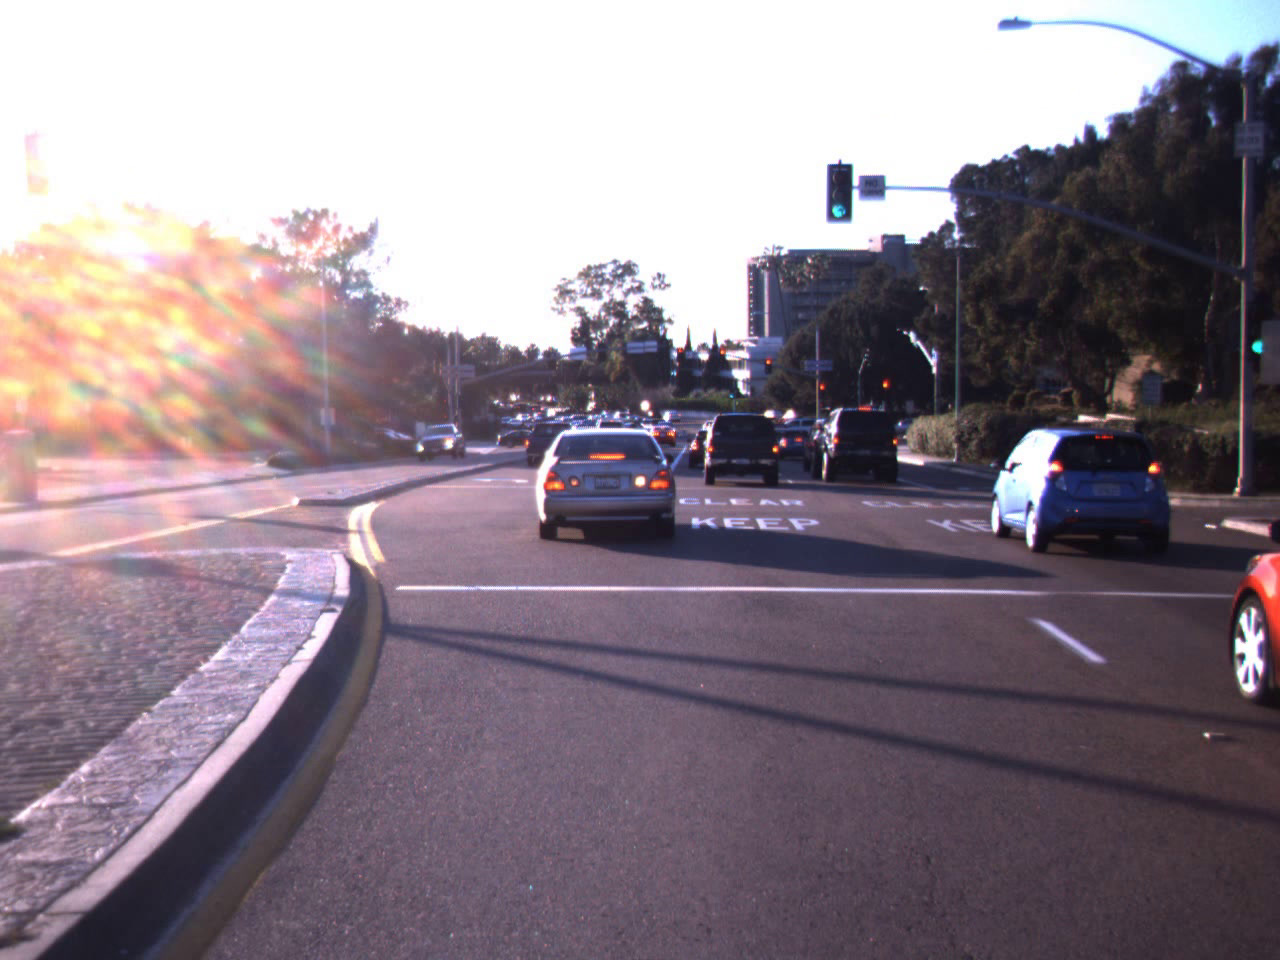go: (825, 172, 849, 222)
